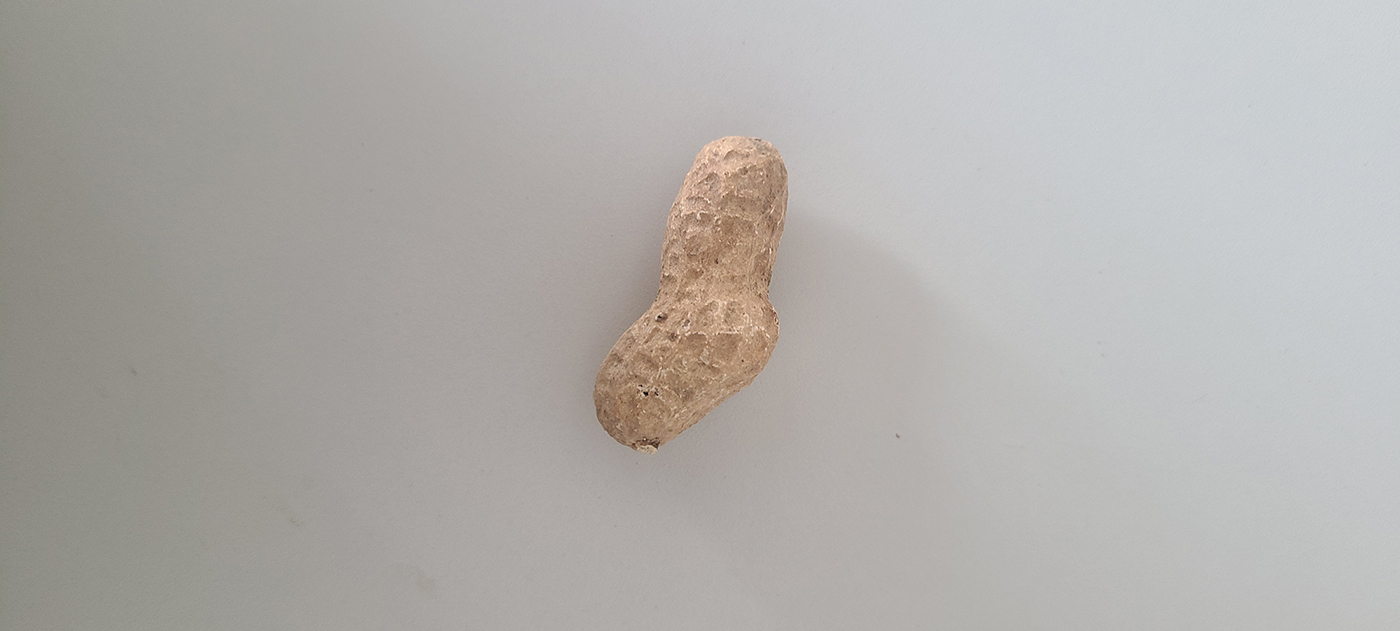h: (593, 130, 789, 449)
